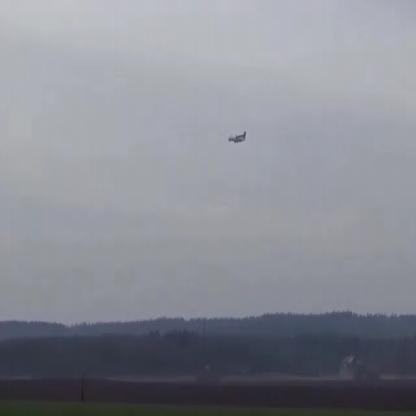CIV_Plane: (227, 131, 247, 143)
